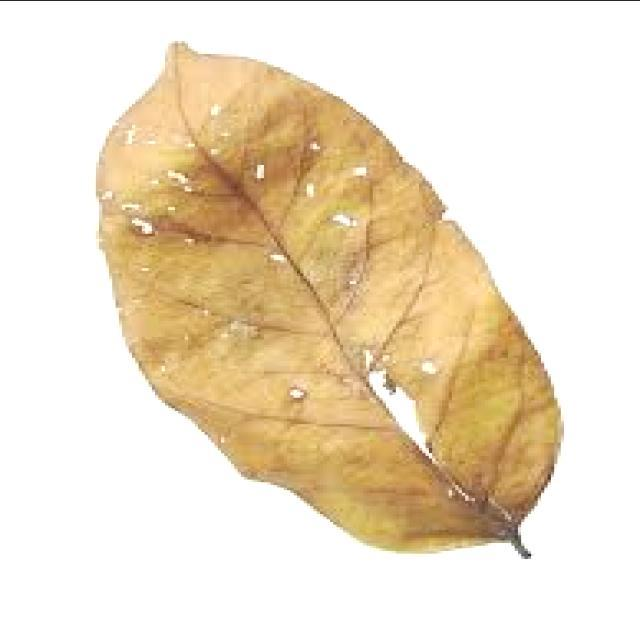leaf: (95, 39, 563, 558)
